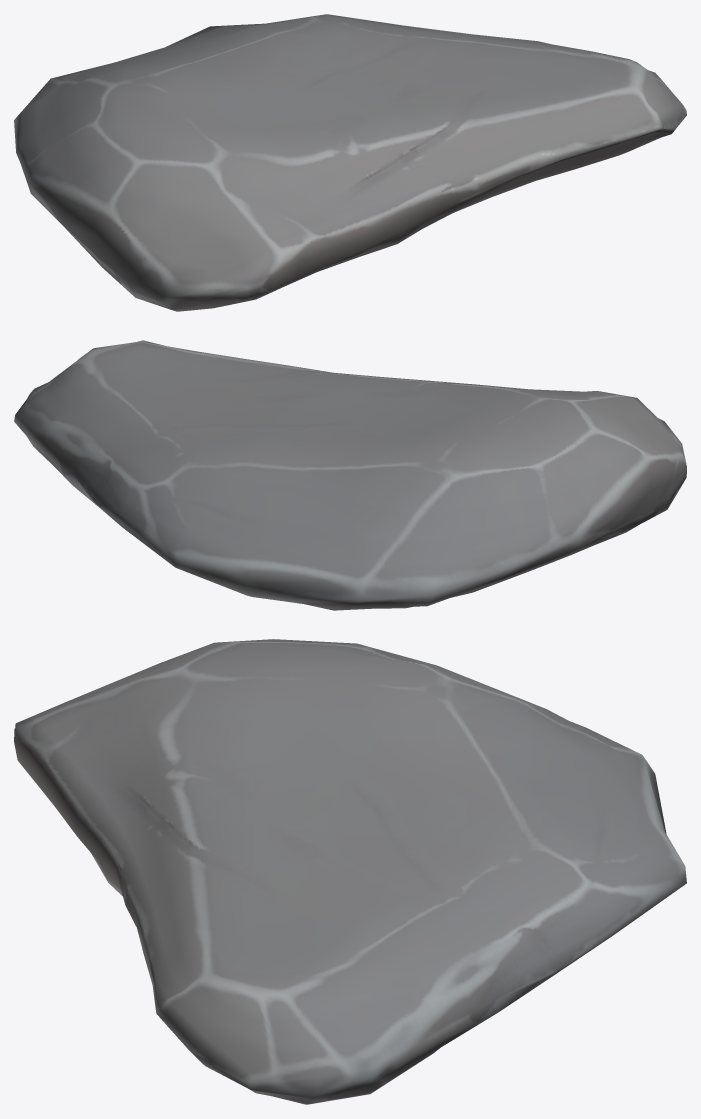
The model's file is rock_big_001.fbx.
3 views of the same model, one above another, from view 1: azimuth 30°, elevation 25°; view 2: azimuth 150°, elevation 25°; view 3: azimuth 270°, elevation 25° (orthographic). The views are drawn at different scales.
Visible parts, largest first — view 1: rock_big_001; view 2: rock_big_001; view 3: rock_big_001.
Boxes of the visible parts, left/top/right/bottom form: rock_big_001: left=14, top=14, right=686, bottom=311; rock_big_001: left=14, top=340, right=686, bottom=610; rock_big_001: left=14, top=639, right=686, bottom=1104.
Bounding box in the file's own units: 7.12 × 1.51 × 5.46.
